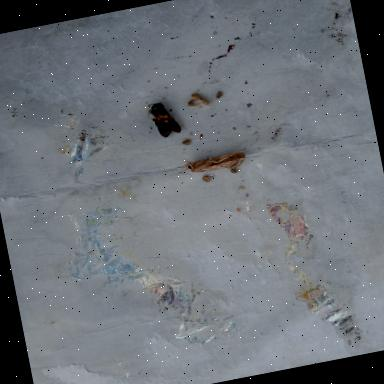pbw: (184, 148, 250, 178)
